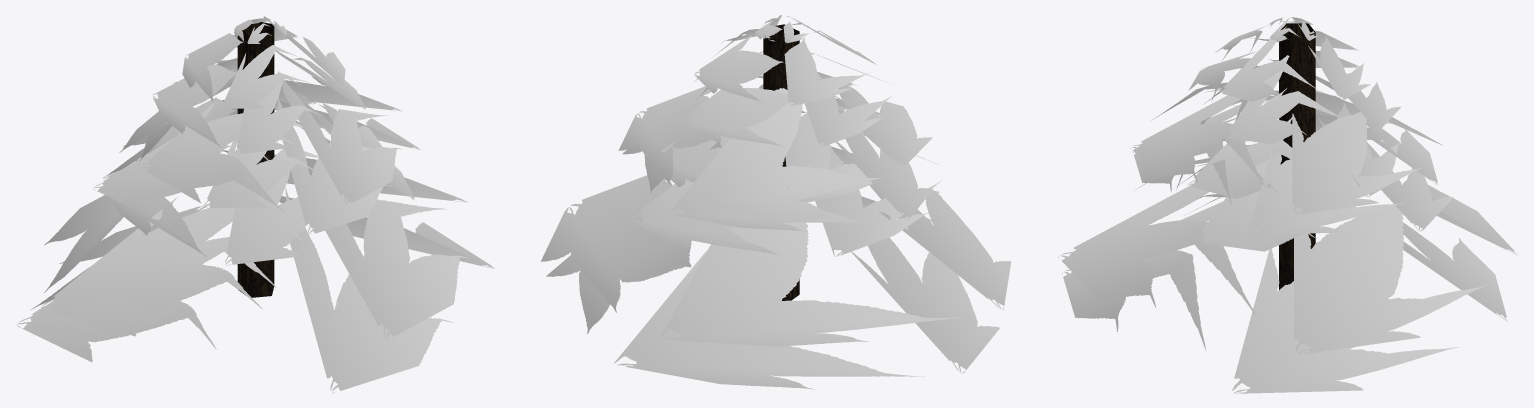
File: Geo_LeafyTree.FBX
3 views of the same model, side by side, from view 1: azimuth 30°, elevation 25°; view 2: azimuth 150°, elevation 25°; view 3: azimuth 270°, elevation 25° (orthographic).
Visible parts, largest first — view 1: Plane020, Plane021, Plane014, Plane017, Plane019, Plane015, Plane016, Plane018, Cylinder001, Plane022; view 2: Plane020, Plane021, Plane014, Plane019, Plane017, Plane015, Plane016, Plane018, Cylinder001, Plane022; view 3: Plane020, Plane021, Plane014, Plane017, Plane019, Plane015, Plane018, Plane016, Cylinder001, Plane022.
Boxes of the visible parts, left/top/right/bottom form: Plane020: left=39, top=150, right=469, bottom=339; Plane021: left=16, top=187, right=494, bottom=393; Plane014: left=119, top=69, right=402, bottom=211; Plane017: left=93, top=98, right=420, bottom=235; Plane019: left=103, top=108, right=414, bottom=265; Plane015: left=152, top=51, right=365, bottom=154; Plane016: left=182, top=23, right=345, bottom=108; Plane018: left=147, top=85, right=382, bottom=207; Cylinder001: left=237, top=22, right=274, bottom=297; Plane022: left=234, top=16, right=287, bottom=43; Plane020: left=541, top=146, right=1011, bottom=346; Plane021: left=546, top=196, right=999, bottom=389; Plane014: left=618, top=72, right=932, bottom=223; Plane019: left=631, top=111, right=941, bottom=256; Plane017: left=622, top=98, right=933, bottom=231; Plane015: left=681, top=51, right=892, bottom=147; Plane016: left=694, top=18, right=876, bottom=105; Plane018: left=660, top=84, right=872, bottom=202; Cylinder001: left=763, top=24, right=799, bottom=300; Plane022: left=755, top=15, right=812, bottom=43; Plane020: left=1058, top=145, right=1517, bottom=354; Plane021: left=1062, top=193, right=1507, bottom=393; Plane014: left=1130, top=76, right=1442, bottom=214; Plane017: left=1133, top=90, right=1437, bottom=234; Plane019: left=1176, top=114, right=1453, bottom=251; Plane015: left=1188, top=51, right=1400, bottom=144; Plane018: left=1187, top=88, right=1399, bottom=198; Plane016: left=1215, top=25, right=1370, bottom=101; Cylinder001: left=1279, top=23, right=1315, bottom=289; Plane022: left=1268, top=17, right=1317, bottom=41.
Bounding box in the file's own units: 51.14 × 31.92 × 47.77.
